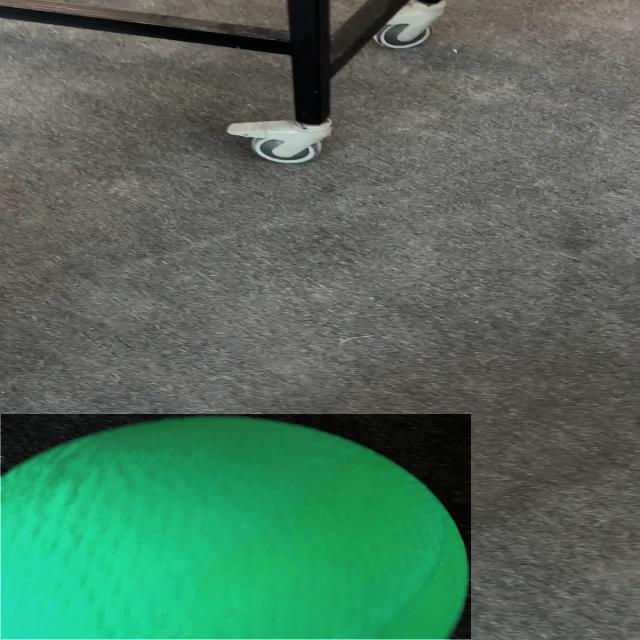Algae: (1, 414, 471, 639)
